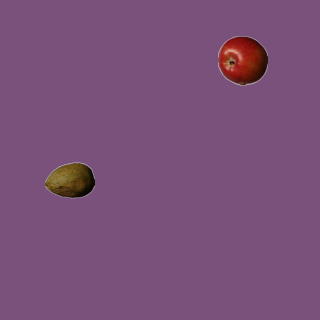Apple Braeburn: (217, 35, 267, 85)
Papaya: (44, 155, 94, 205)
